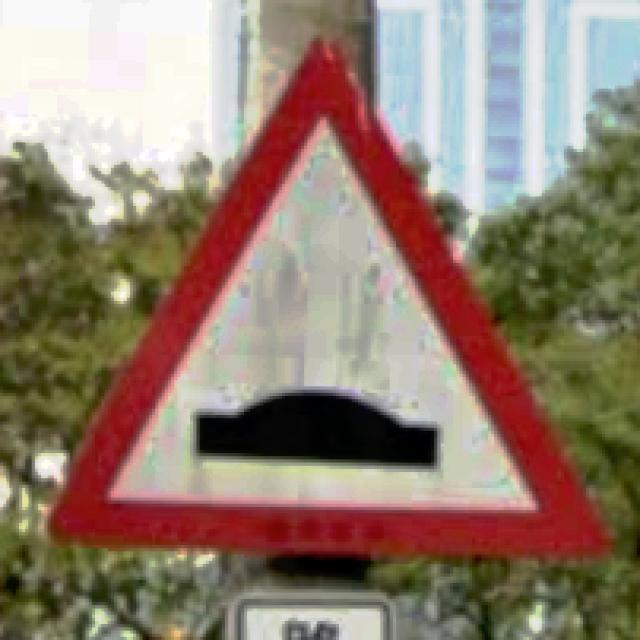hump: (49, 38, 610, 557)
